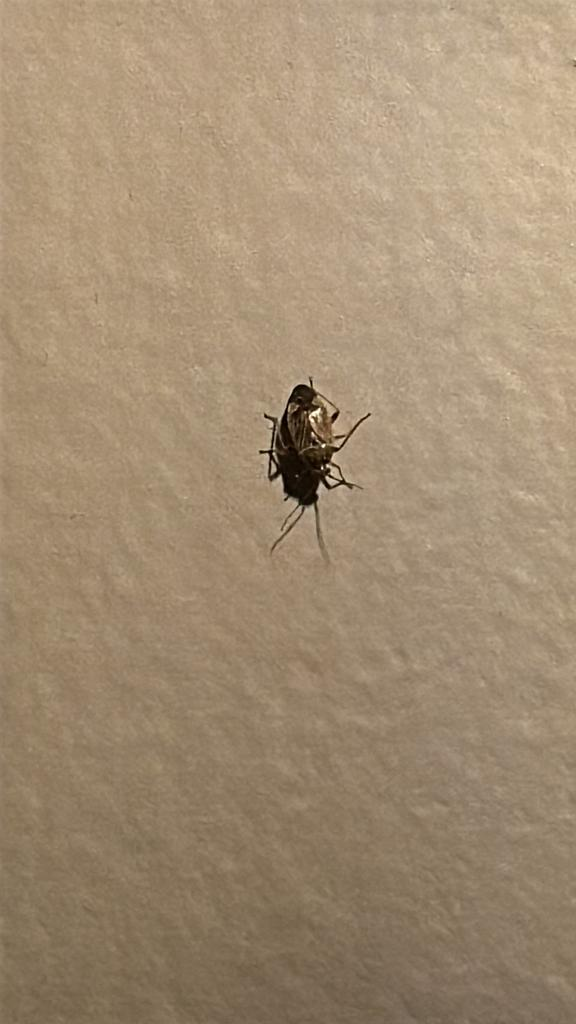plant_bugs: (211, 354, 399, 550)
